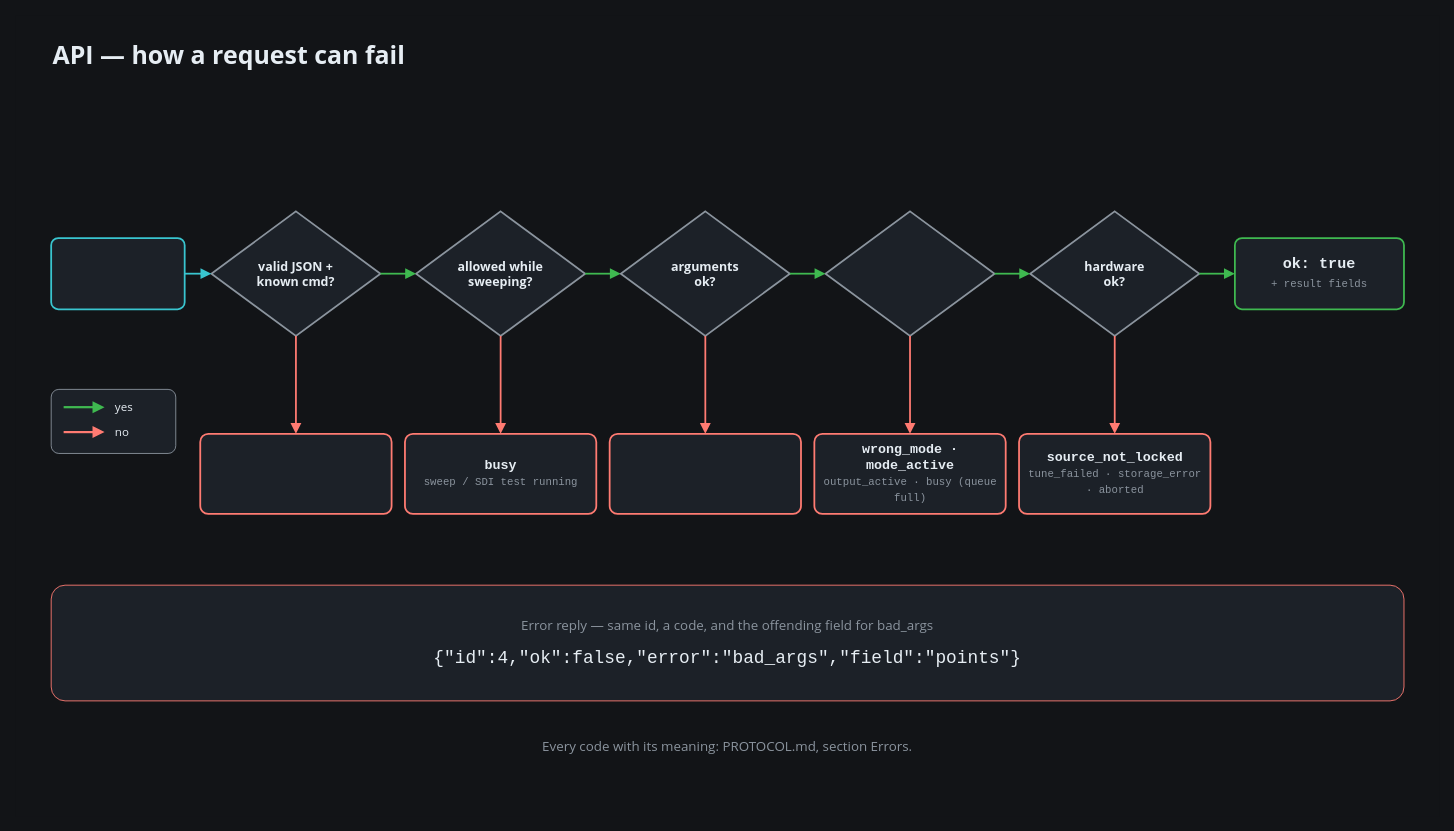
The diagram is 1454 pixels wide and 831 high, and some of its shapes have lost their labels. The centre of each missing label's shape, as x and y in pixels:
"bad_args + field" belongs at point 704,473.
"bad_request unknown_cmd" belongs at point 295,473.
"request" belongs at point 117,273.
"right mode?" belongs at point 909,273.
